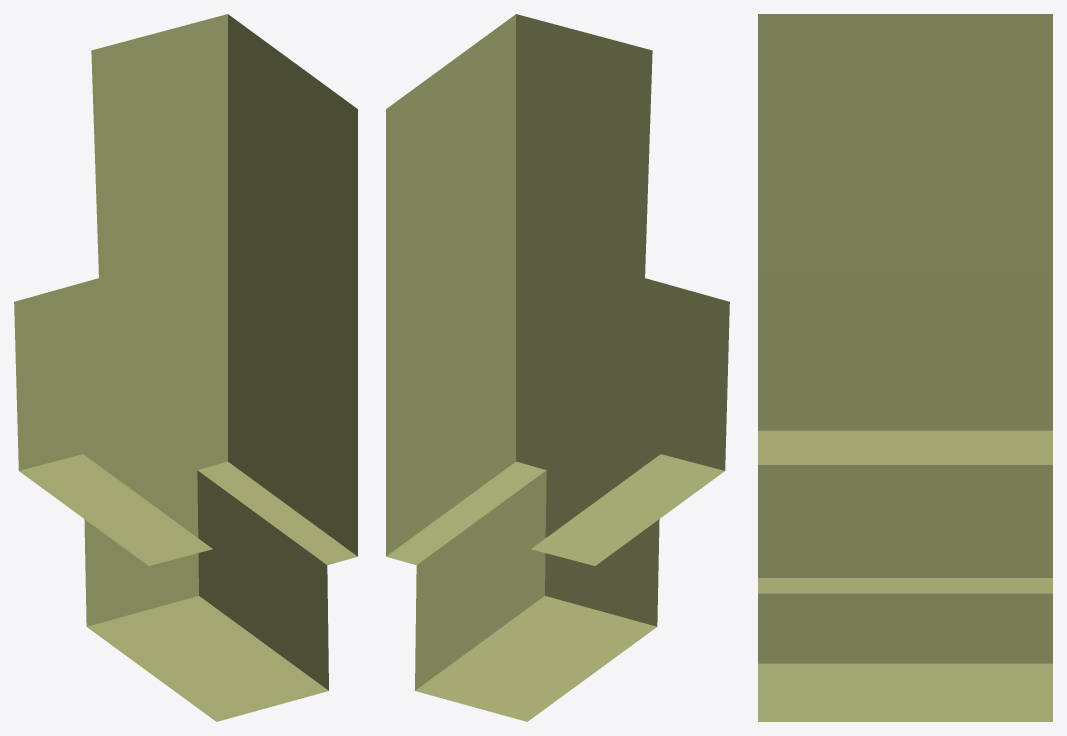
3 views of the same model, side by side, from view 1: azimuth 30°, elevation 25°; view 2: azimuth 150°, elevation 25°; view 3: azimuth 270°, elevation 25° (orthographic). The views are drawn at different scales.
Parts seen in each view (by area): view 1: 0_0_3_2_1_0_3_2_0_0; view 2: 0_0_3_2_1_0_3_2_0_0; view 3: 0_0_3_2_1_0_3_2_0_0.
Part boxes in pixels (box(x1,y1,x2,y2)): 0_0_3_2_1_0_3_2_0_0: box(14, 14, 357, 721); 0_0_3_2_1_0_3_2_0_0: box(386, 14, 729, 721); 0_0_3_2_1_0_3_2_0_0: box(758, 14, 1052, 721).
Size of the model in its own units: 8.54 by 22.09 by 9.
